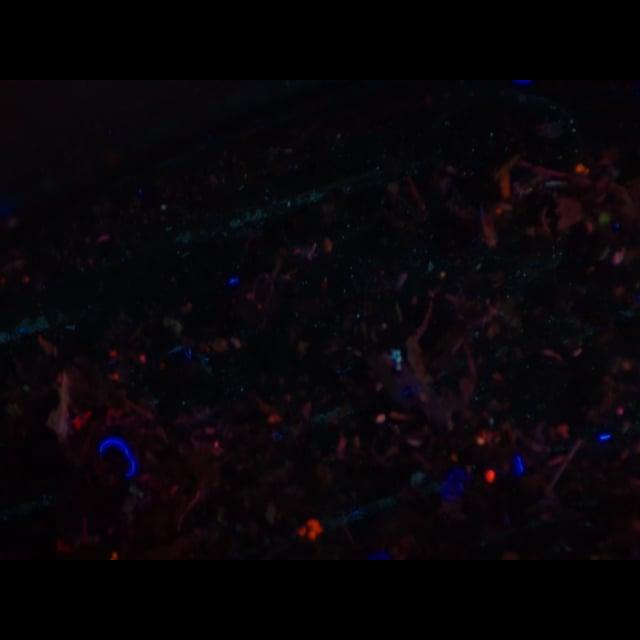Fragment: (298, 517, 324, 543)
